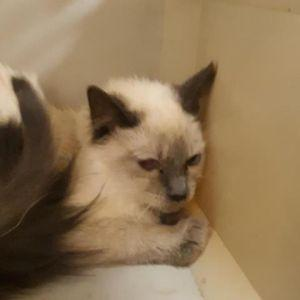siamese: (76, 55, 229, 223)
